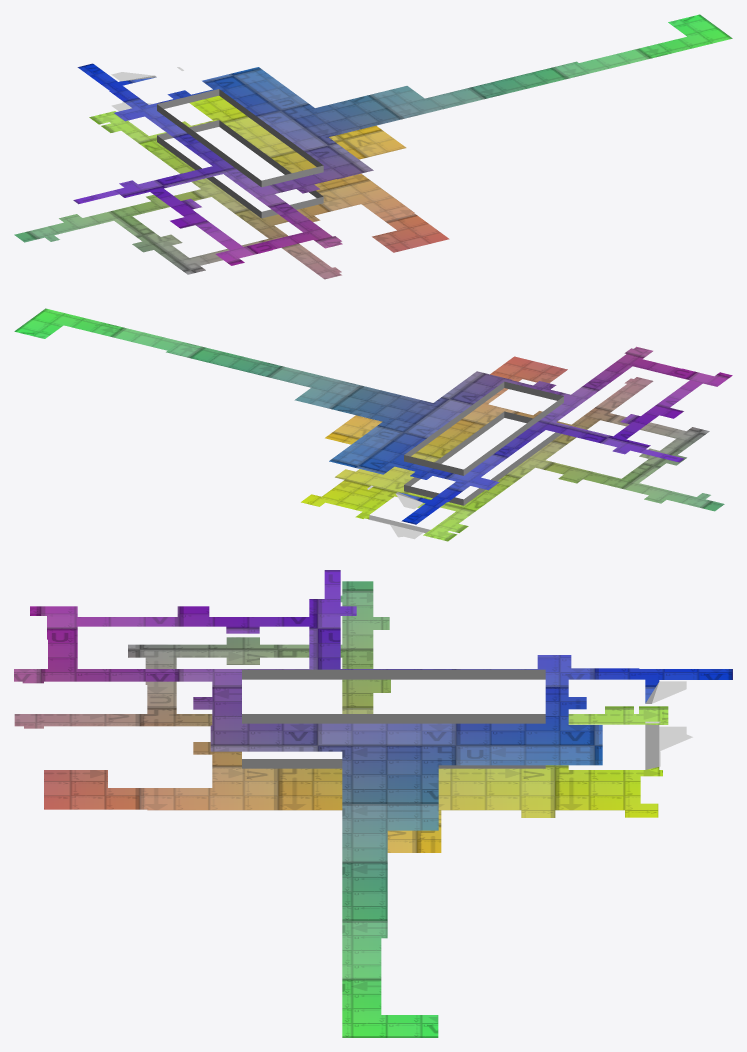
The model's file is roofs.fbx.
3 renders of one model, top to bottom at view 1: azimuth 30°, elevation 25°; view 2: azimuth 150°, elevation 25°; view 3: azimuth 270°, elevation 25°, orthographic. The views are drawn at different scales.
Parts seen in each view (by area): view 1: Floor6Roof; view 2: Floor6Roof; view 3: Floor6Roof.
Part boxes in pixels (x1,y1,x2,y2): Floor6Roof: (14, 14, 732, 279); Floor6Roof: (14, 308, 732, 541); Floor6Roof: (14, 570, 732, 1037).
Size of the model in its own units: 4099 by 209 by 2482.
